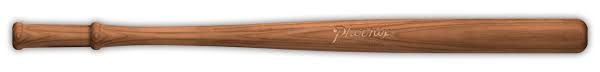bat: (8, 13, 592, 58)
